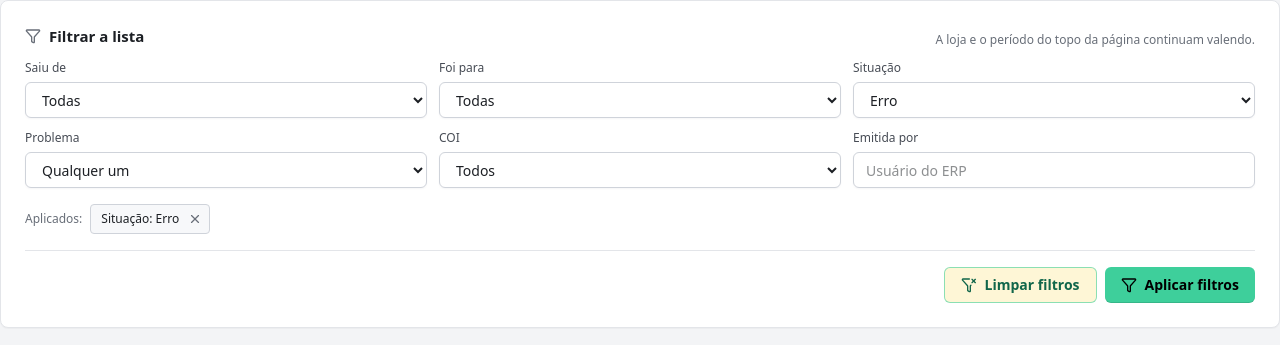
Scenario: FilterBar › Limpar zera o rascunho e avisa o pai
The image size is (1280, 345).
Expected: the dropdown labelled "Situação" shows "Erro", [853, 82, 1255, 118]
Click the button "Limpar filtros".
click(1020, 285)  # box [944, 267, 1097, 303]
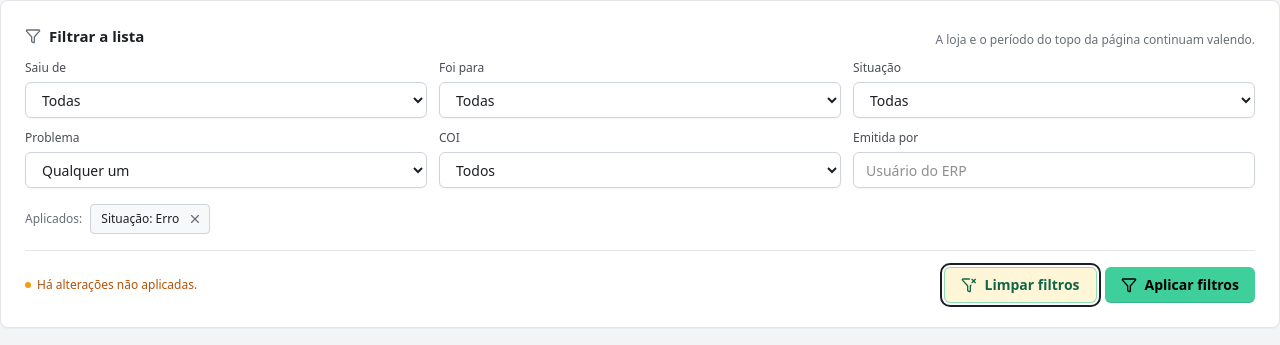
Expected: the dropdown labelled "Situação" shows "Todas", [853, 82, 1255, 118]
